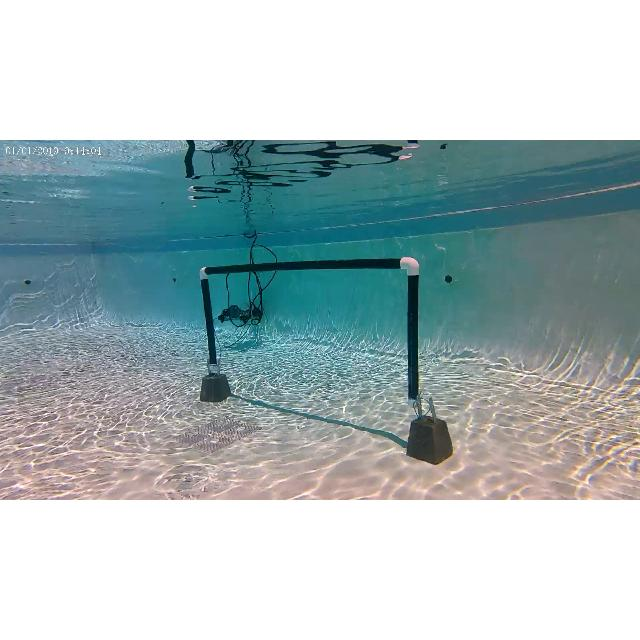prequal gate: (200, 257, 420, 407)
prequal gate leg l: (198, 260, 226, 372)
prequal gate leg r: (398, 257, 424, 407)
